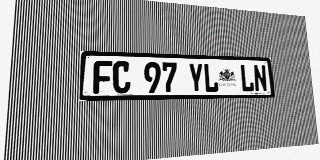7: (161, 62, 178, 93)
9: (144, 62, 161, 93)
C: (113, 61, 130, 94)
F: (93, 60, 112, 94)
L: (203, 63, 219, 92), (240, 64, 255, 92)
N: (253, 65, 268, 92)
Y: (188, 63, 204, 93)
